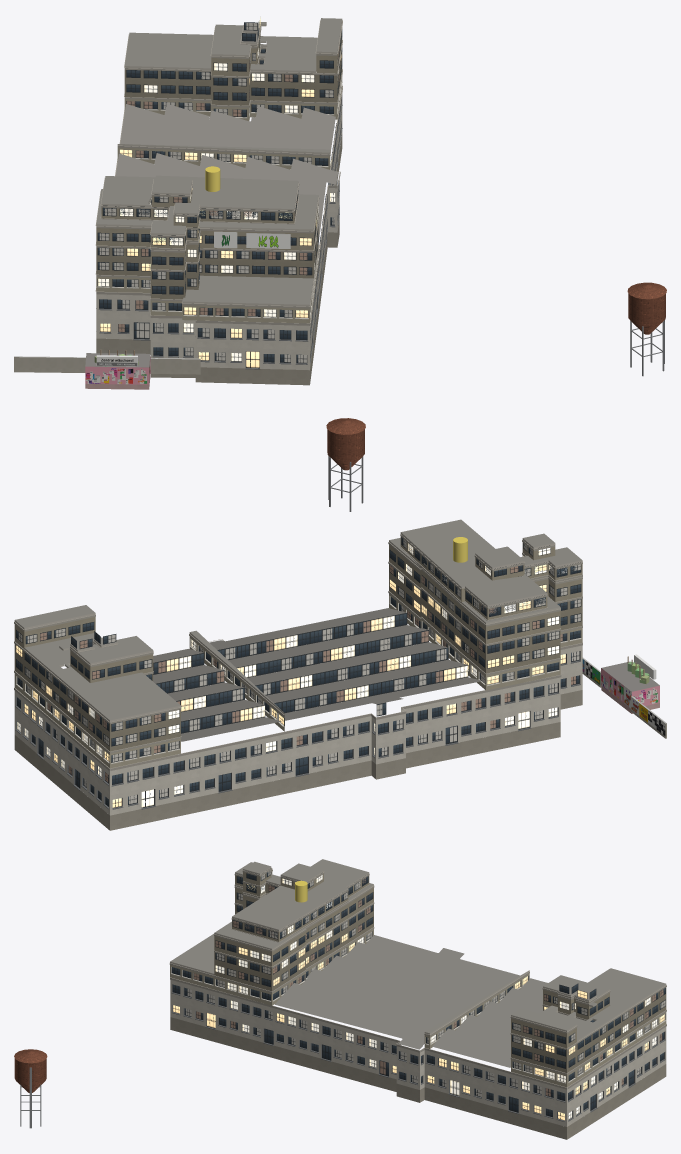
Rendered from zentralwaescherei.glb.
3 renders of one model, top to bottom at view 1: azimuth 30°, elevation 25°; view 2: azimuth 150°, elevation 25°; view 3: azimuth 270°, elevation 25°, orthographic. The views are drawn at different scales.
Visible parts, largest first — view 1: zentralwaescherei; view 2: zentralwaescherei; view 3: zentralwaescherei.
Part boxes in pixels (x1,y1,x2,y2): zentralwaescherei: [14, 17, 666, 389]; zentralwaescherei: [14, 418, 666, 830]; zentralwaescherei: [14, 859, 666, 1139].
Bounding box in the file's own units: 102 × 32.45 × 139.
Materials: 6 (6 with a texture image).
